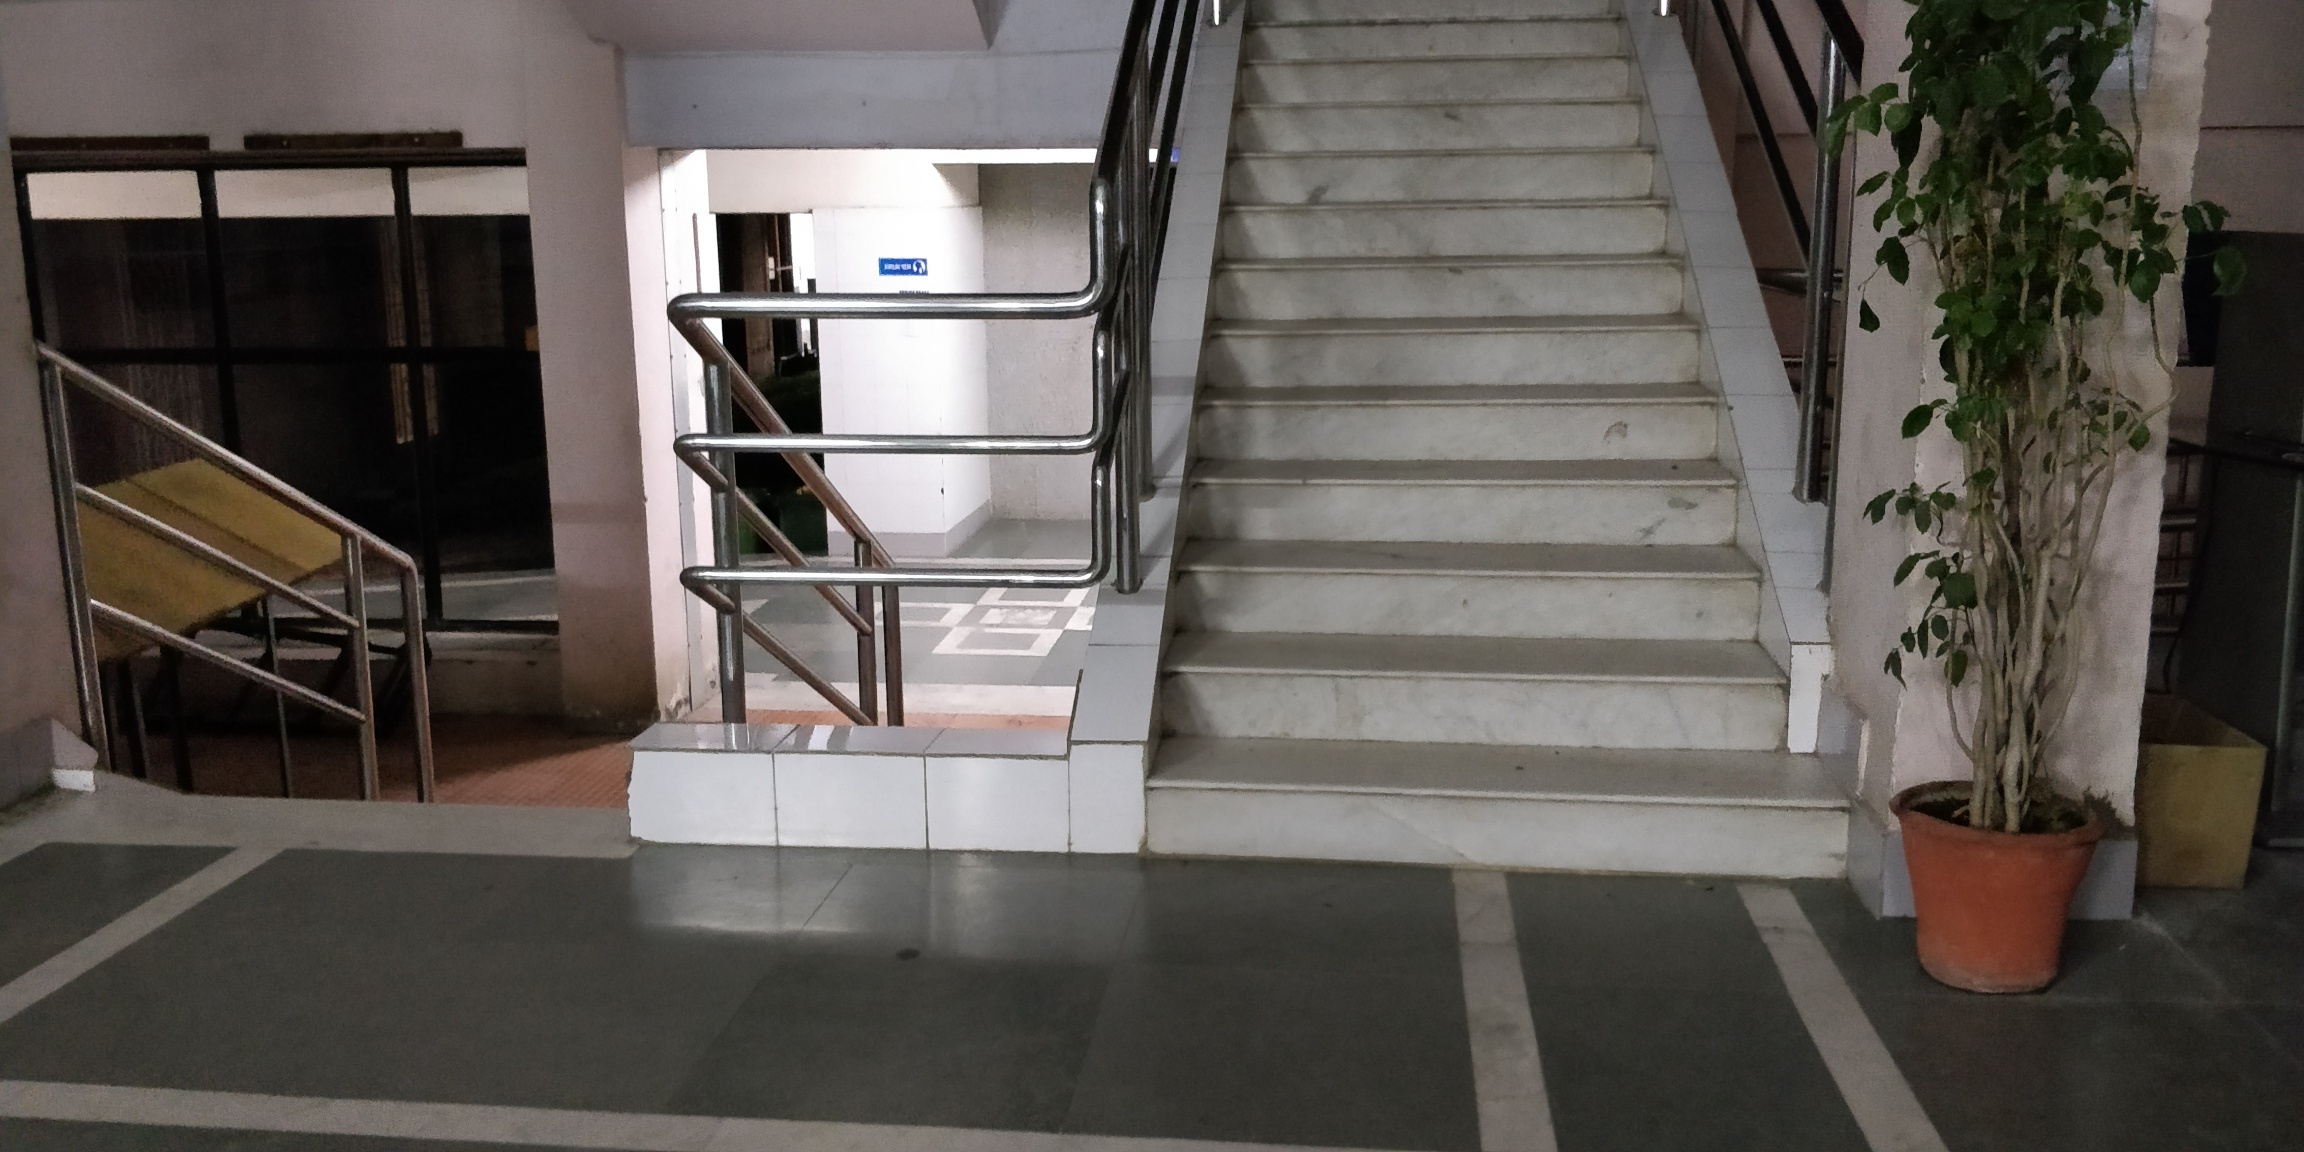stairs_up: (1149, 10, 1887, 899)
